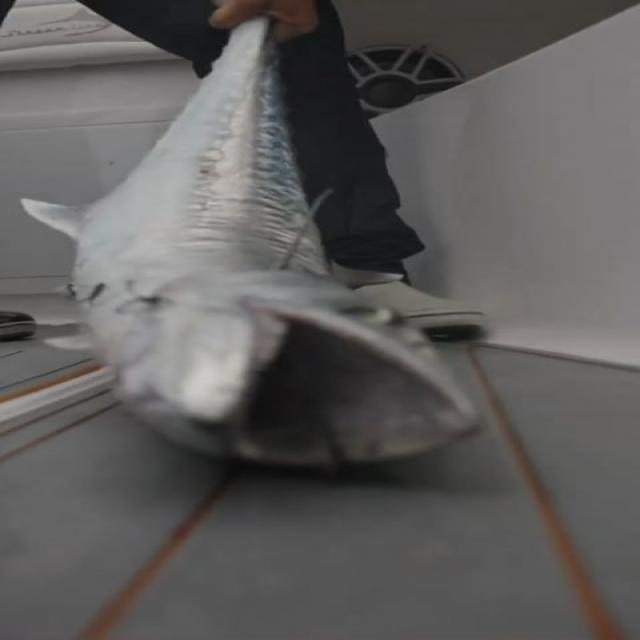King Mackerel: (19, 3, 489, 473)
